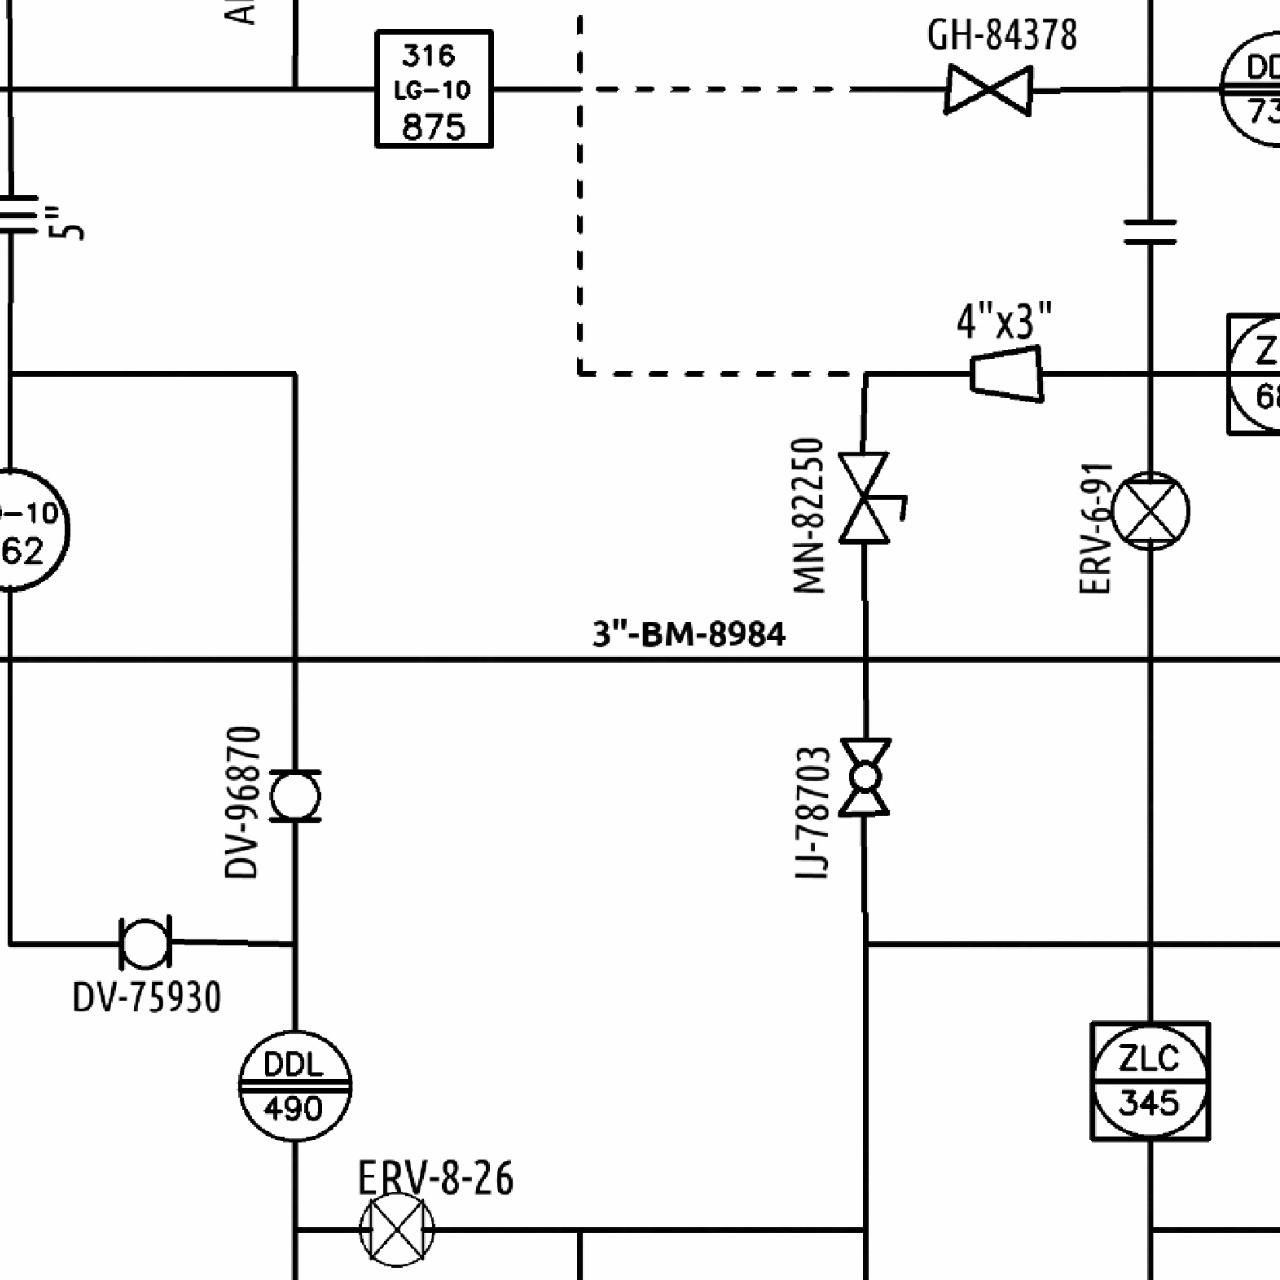Control-Panel: (228, 1021, 352, 1148)
